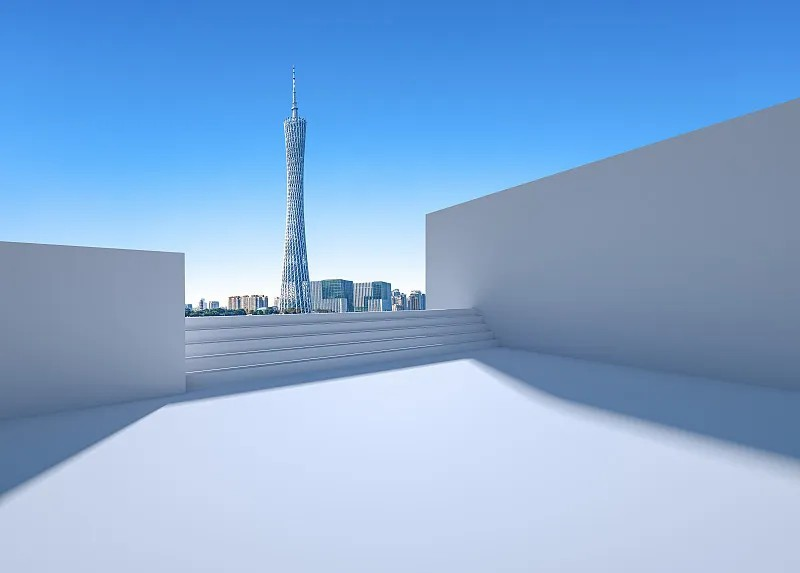Canton: (280, 62, 313, 314)
